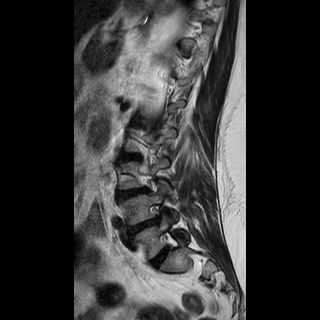LFS0: (155, 228, 183, 262)
LFS2: (145, 193, 173, 227)
